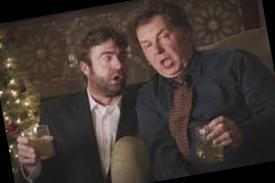Drunk: (139, 26, 179, 73), (95, 45, 128, 90)
